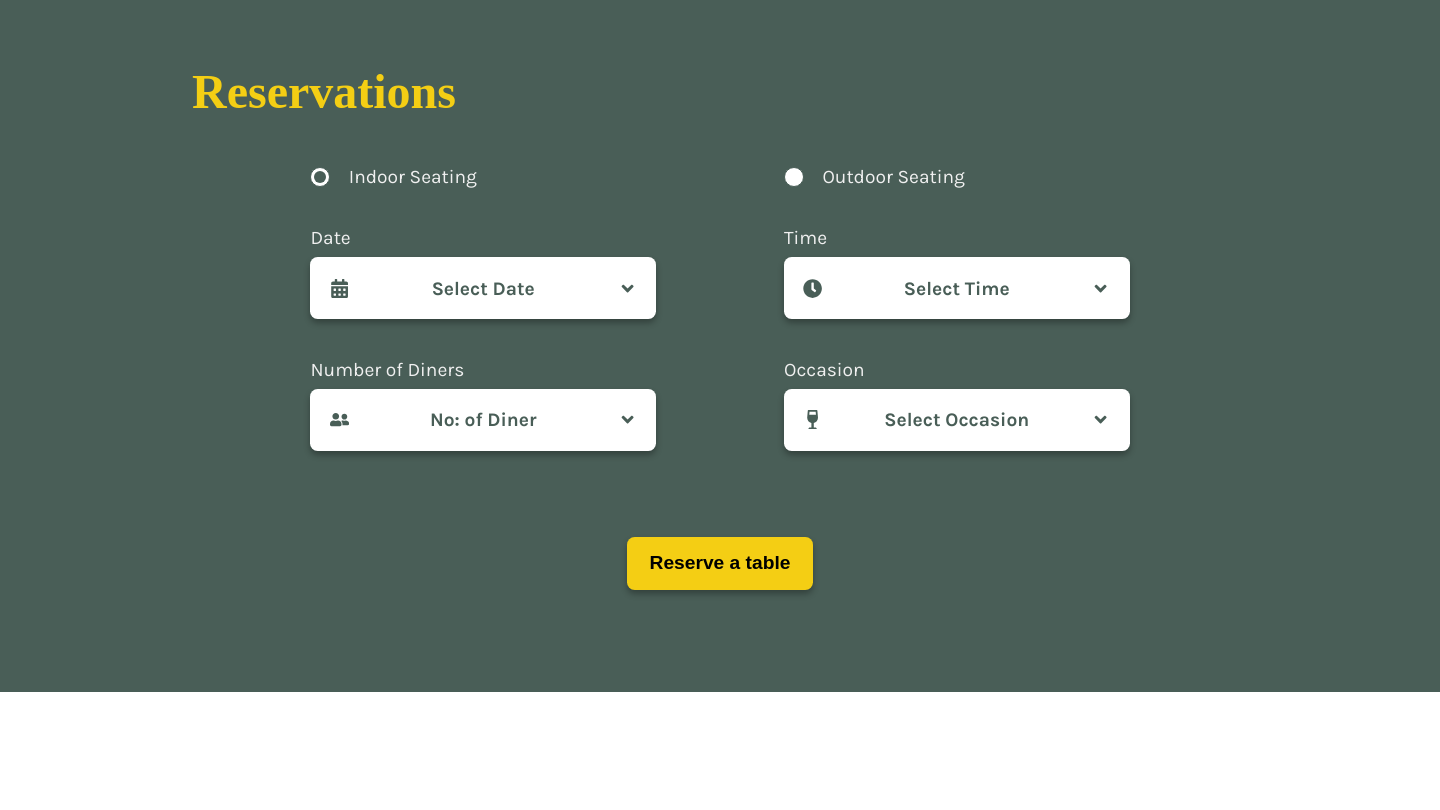
BookingForm › should allow the user to select a time from the dropdown
Step 1. Click the text "Select Time" → (957,288), box x1=904 y1=277 x2=1010 y2=300
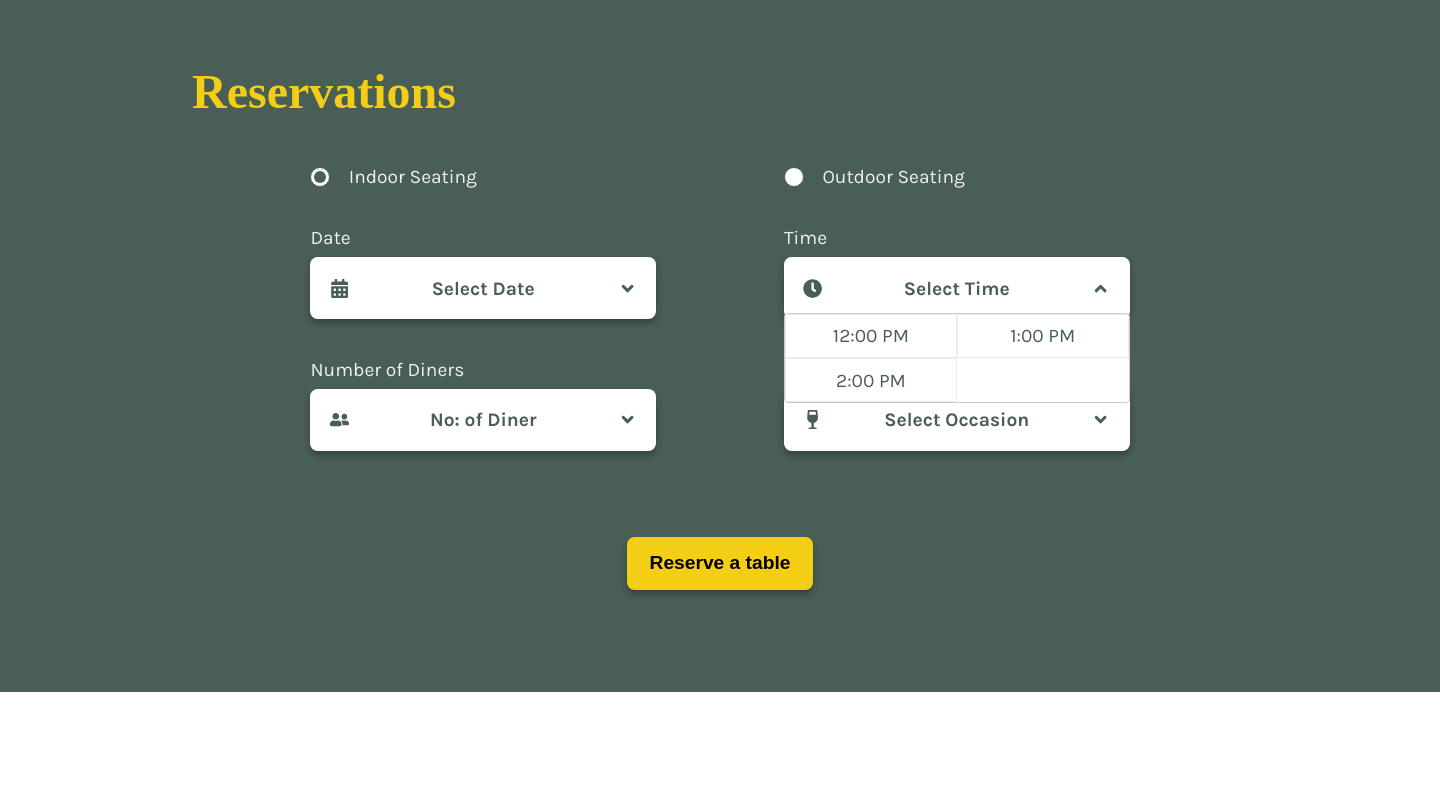
Step 2. Click the text "12:00 PM" → (871,336), box x1=785 y1=314 x2=957 y2=358
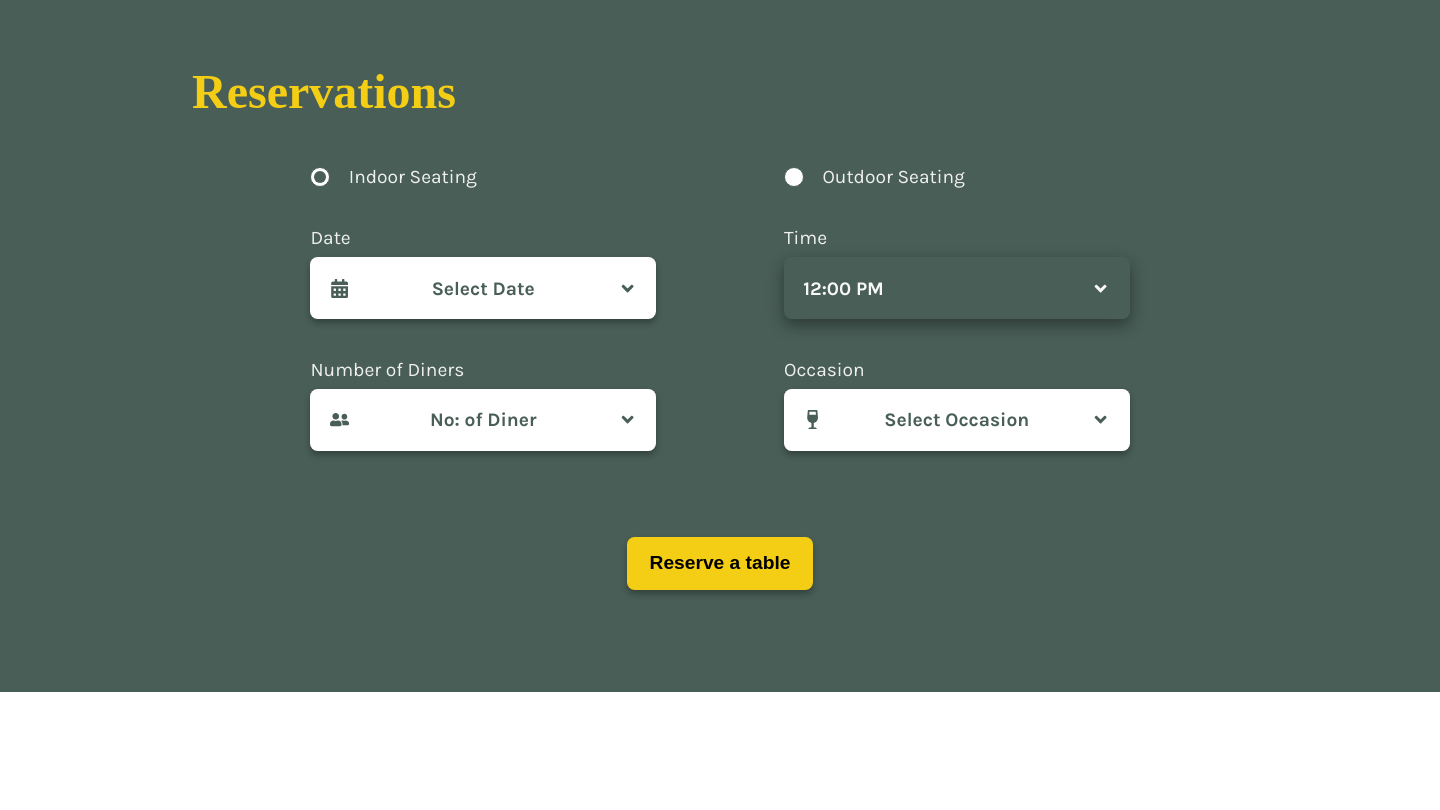
Check: the text "12:00 PM" is shown, box x1=803 y1=277 x2=884 y2=300
